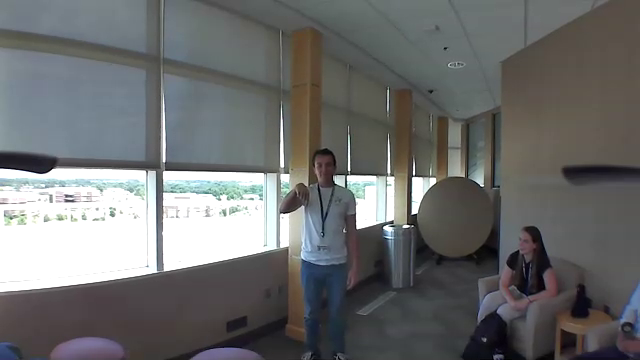down: (291, 180, 313, 214)
